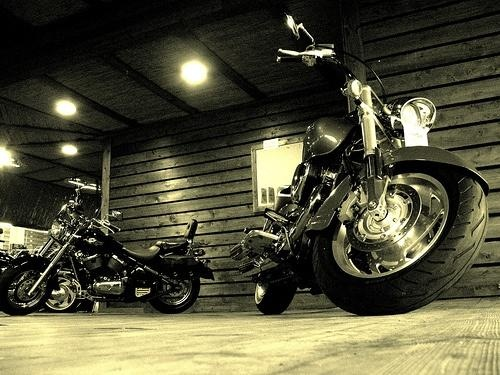motorbike: (231, 13, 490, 316), (2, 180, 215, 315)
